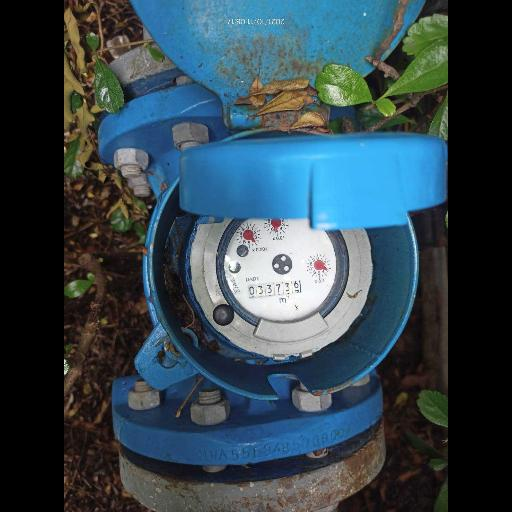0: (249, 286, 258, 298)
3: (283, 282, 293, 294), (266, 284, 275, 297), (257, 285, 266, 297)
6: (292, 281, 300, 293)
7: (275, 283, 284, 295)
border_water_meter_number: (248, 279, 303, 299)
